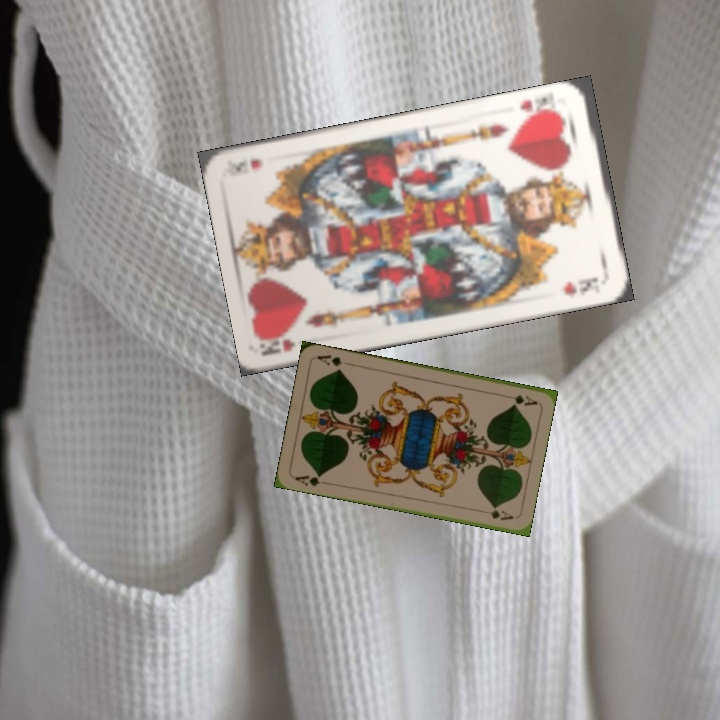GA: (290, 470, 331, 489), (499, 391, 539, 408)
HK: (516, 93, 563, 123), (259, 331, 298, 358)
